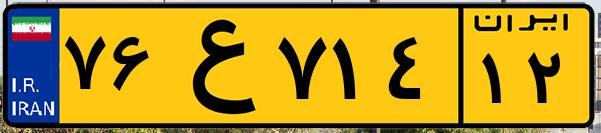1: (330, 28, 385, 110), (475, 38, 525, 113)
2: (525, 38, 570, 115)
4: (385, 28, 445, 110)
6: (110, 28, 158, 98)
7: (270, 28, 330, 110), (57, 26, 110, 100)
ع: (158, 12, 270, 120)
